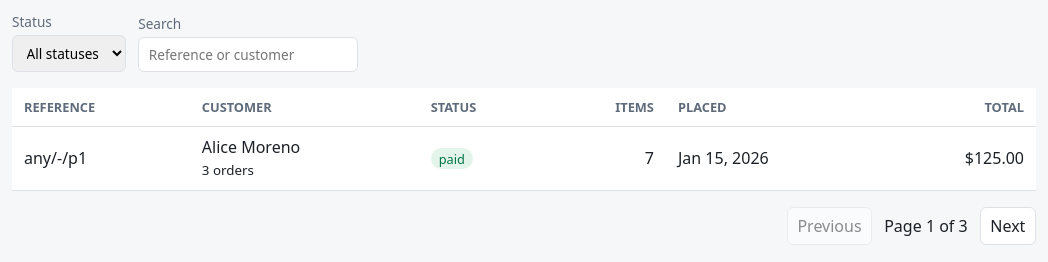
Scenario: OrdersTable › goes back to the first page when a filter changes
Expected: the text "any/-/p1" is shown, [12,126,190,190]
Click the button "Next" at (1008, 226), box [980,207,1036,245]
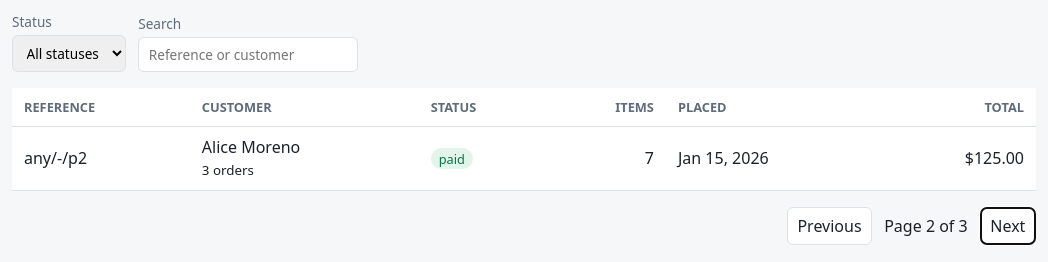
Result: the text "any/-/p2" is shown at [12,126,190,190]
Select "shipped" in the dropdown labelled "Status" at (69, 54), box [12,35,126,72]
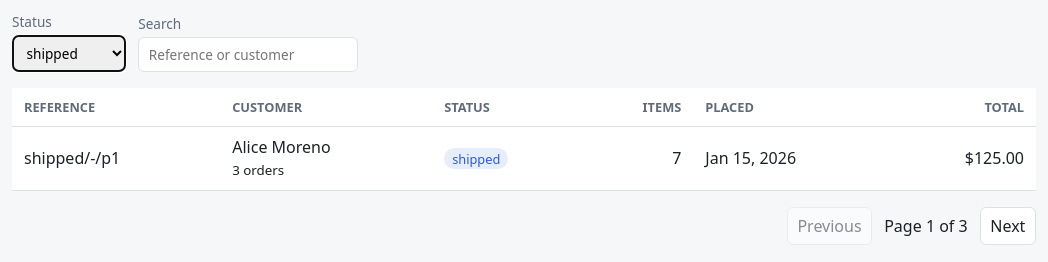
Result: the text "shipped/-/p1" is shown at [12,126,220,190]
